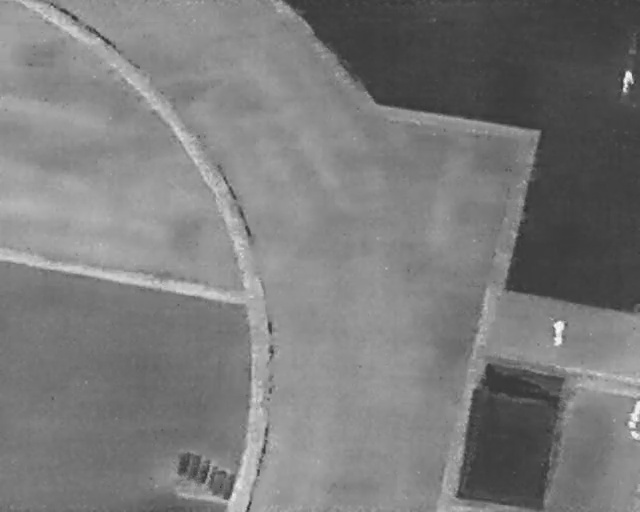Person: (618, 65, 637, 94), (550, 317, 567, 348)
